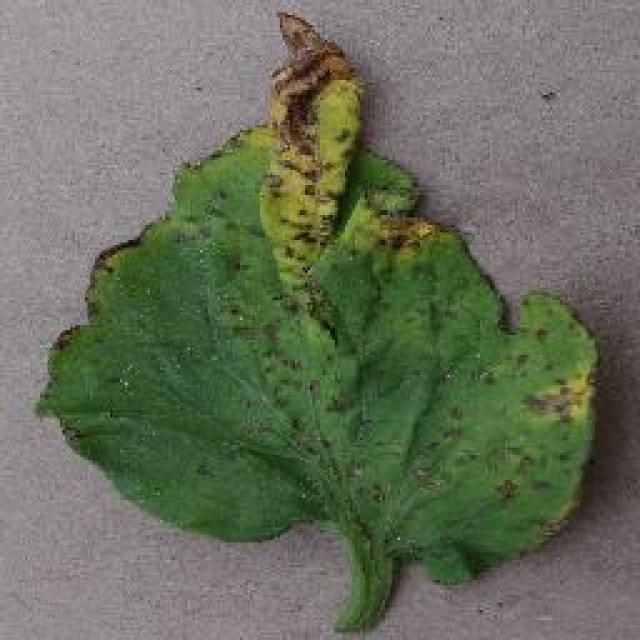Tomato___Bacterial_spot: (20, 8, 602, 630)
